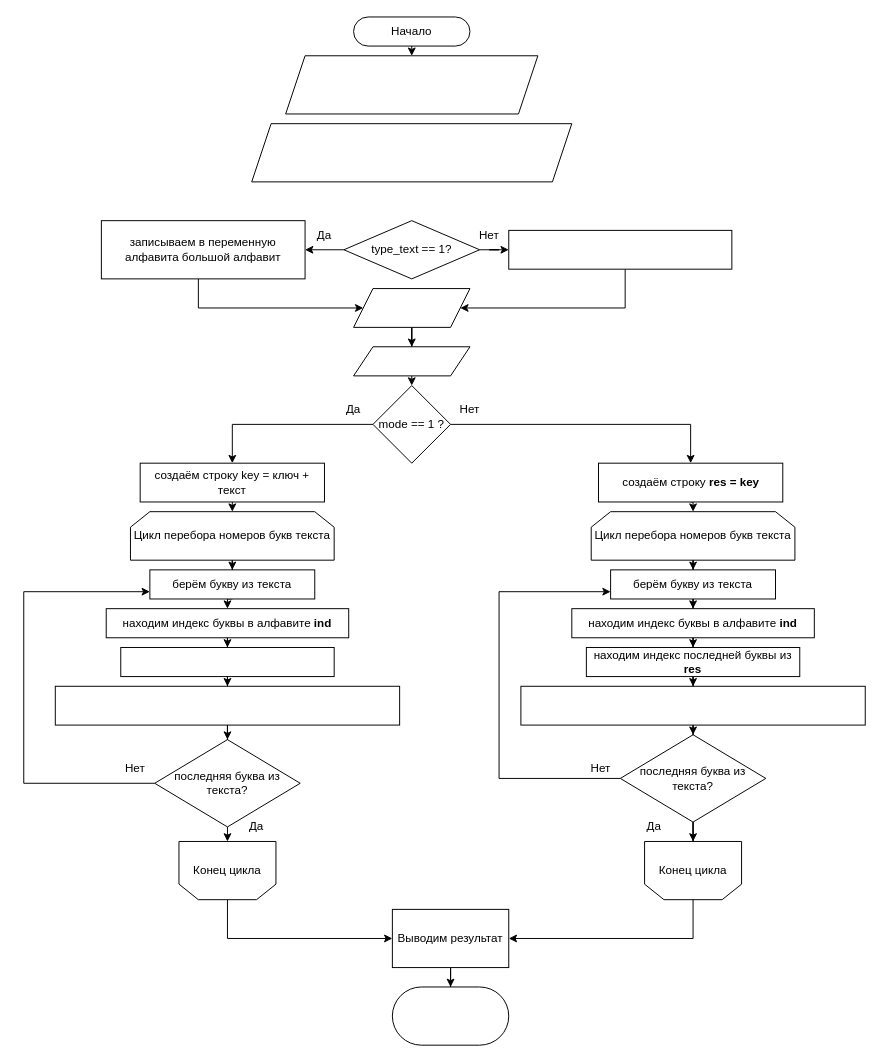
The diagram is 883 pixels wide and 1062 high, and some of its shapes have lost their labels. Each missing label, with the centre of its shape:
"Ввод ключа" goes at [411,361].
"Ввод текста" goes at [411,307].
"Выбор работы с большим текстом или с поговоркой (type_text)" goes at [411,152].
"Выбор шифрования или расшифрования" goes at [411,84].
"записываем в конец результата букву с номером ind+dif по модулю длинны алфавита" goes at [227,705].
"записываем в конец результата букву с номером ind-dif по модулю длинны алфавита" goes at [692,705].
"записываем в переменную алфавита малый алфавит" goes at [620,249].
"Конец" goes at [450,1015].
"находим индекс буквы с тем же номером из key в алфавите dif" goes at [227,662].
